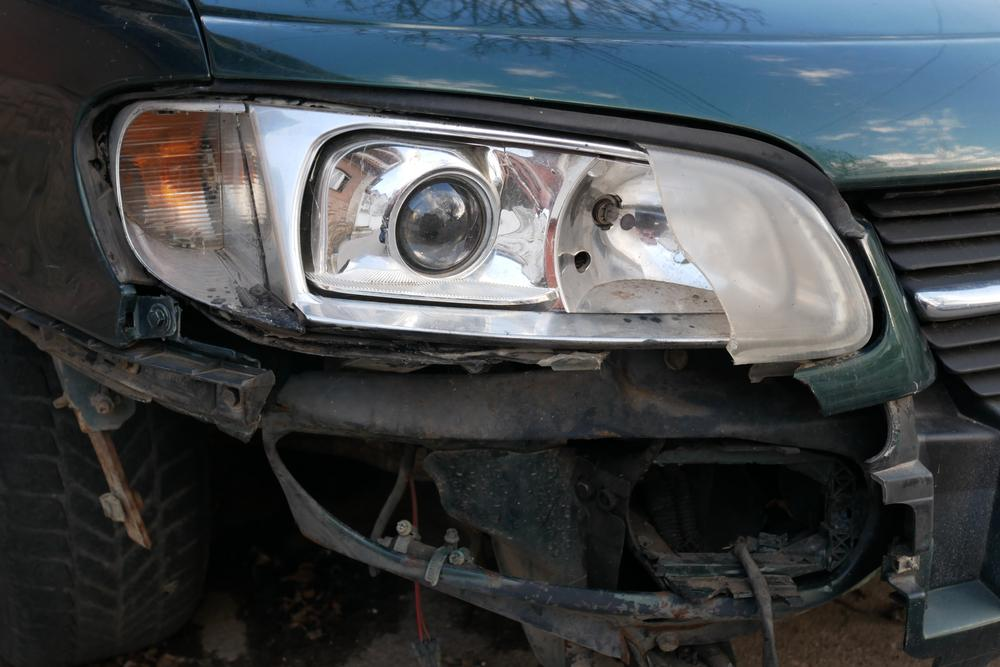lamp broken: (98, 98, 872, 367)
